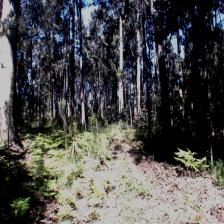trunktrack_idkeyframe: (157, 64, 172, 138)
